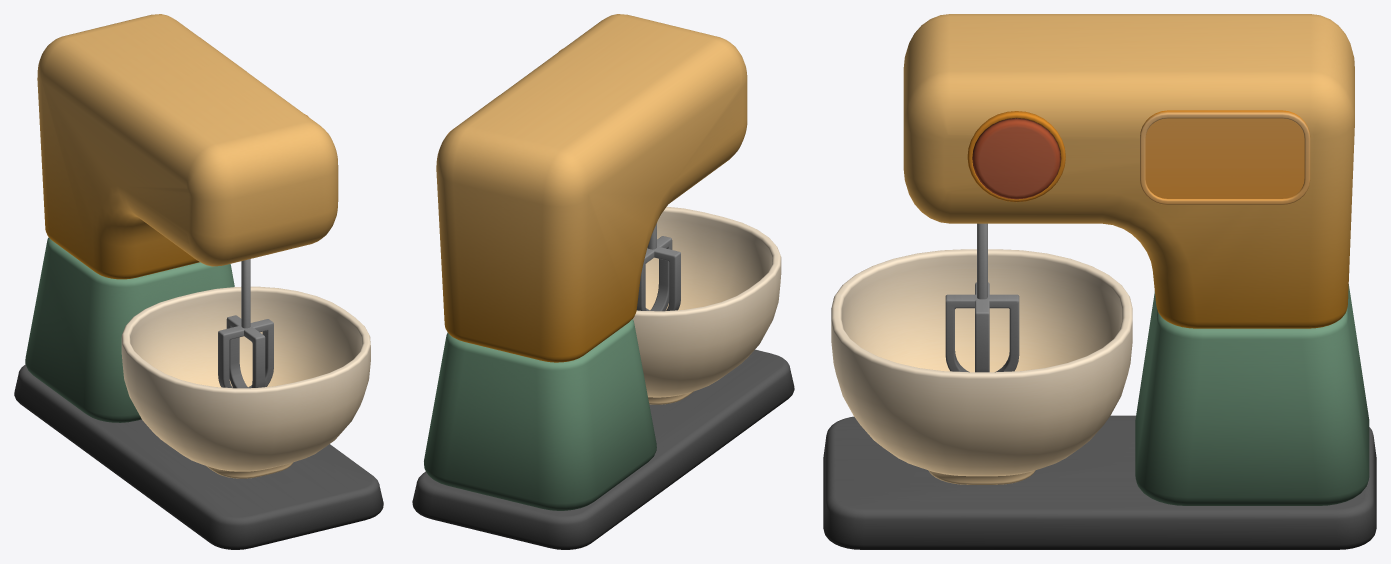
Rendered from mixer.fbx.
3 renders of one model, left to right at view 1: azimuth 30°, elevation 25°; view 2: azimuth 150°, elevation 25°; view 3: azimuth 270°, elevation 25°, orthographic. The views are drawn at different scales.
Visible parts, largest first — view 1: Mixer Top, Bowl, Mixer Base, Mixer Bottom, Cube.001; view 2: Mixer Top, Mixer Bottom, Bowl, Mixer Base, Cube.001; view 3: Mixer Top, Bowl, Mixer Base, Mixer Bottom, Timer Screen, Button, Cube.001, Base Button.
Part boxes in pixels (x1,y1,x2,y2): Mixer Top: (37, 14, 338, 279); Bowl: (121, 286, 370, 478); Mixer Base: (14, 364, 383, 549); Mixer Bottom: (25, 237, 234, 422); Cube.001: (218, 259, 273, 388); Mixer Top: (436, 14, 747, 362); Mixer Bottom: (424, 319, 656, 510); Bowl: (633, 206, 781, 404); Mixer Base: (412, 349, 794, 549); Cube.001: (636, 223, 680, 311); Mixer Top: (903, 14, 1354, 328); Bowl: (831, 249, 1132, 484); Mixer Base: (823, 415, 1376, 549); Mixer Bottom: (1135, 284, 1369, 505); Timer Screen: (1140, 110, 1310, 204); Button: (972, 118, 1060, 199); Cube.001: (945, 223, 1019, 372); Base Button: (967, 111, 1065, 202).
Bounding box in the file's own units: 32.71 × 54.72 × 60.03.
1 material, 1 textured.
